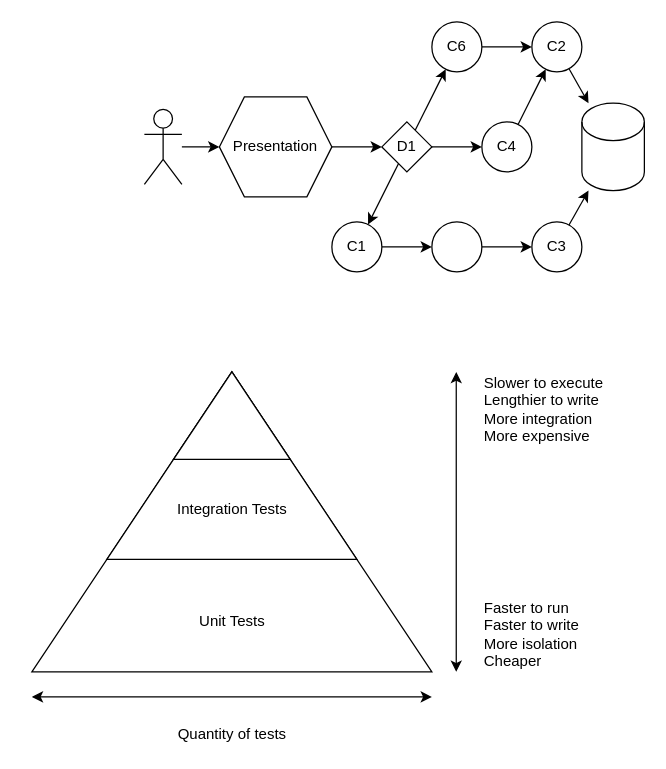
The diagram is 666 pixels wide and 769 high, and some of its shapes have lost their labels. Here are the shapes that lost their labels. From the top down, the centre of each, then its label:
the point at 162,146: Actor
the point at 612,146: DB
the point at 456,246: C5
the point at 231,415: E2E Tests
